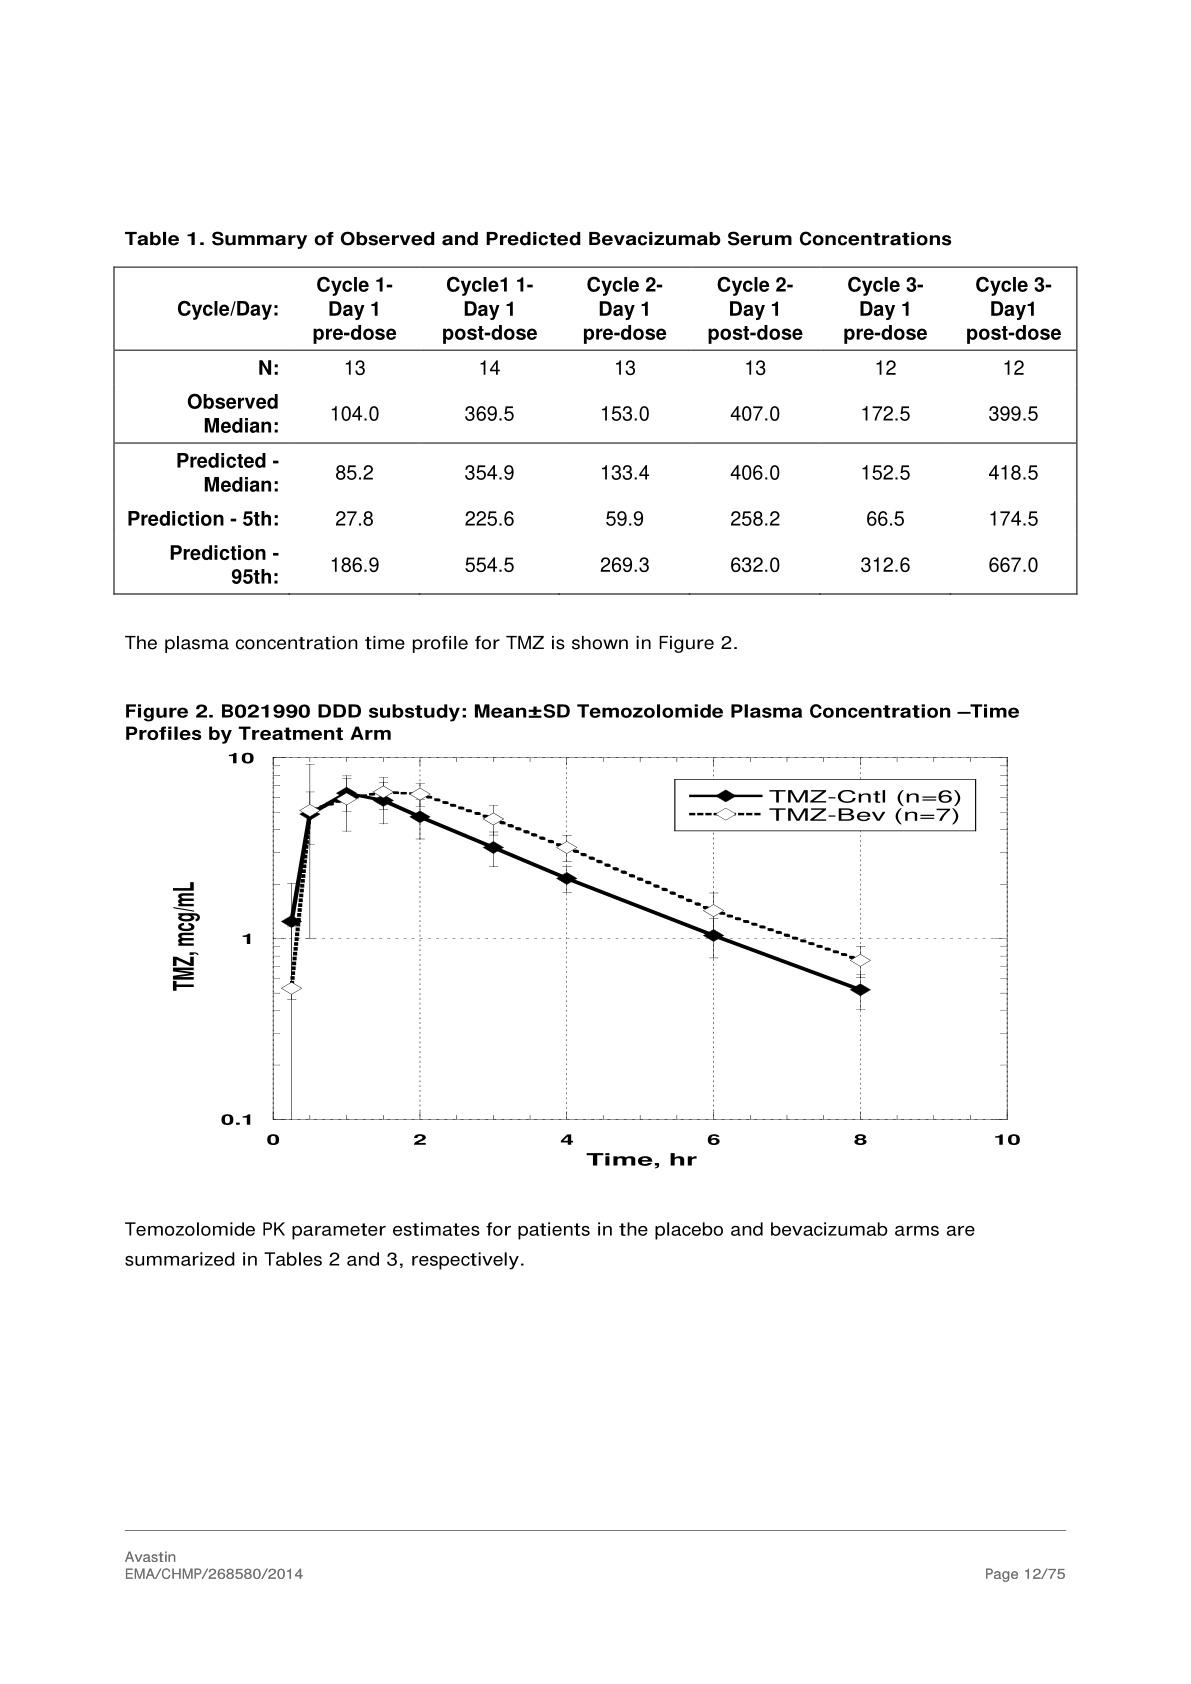partial_lined: (112, 264, 1080, 598)
